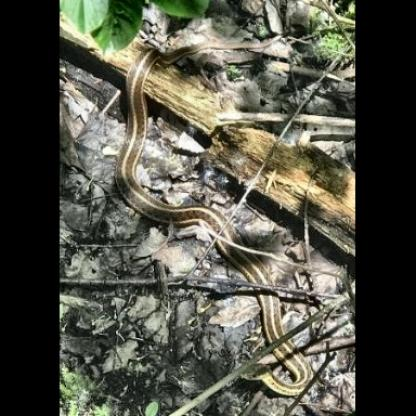Snake: (115, 43, 315, 393)
